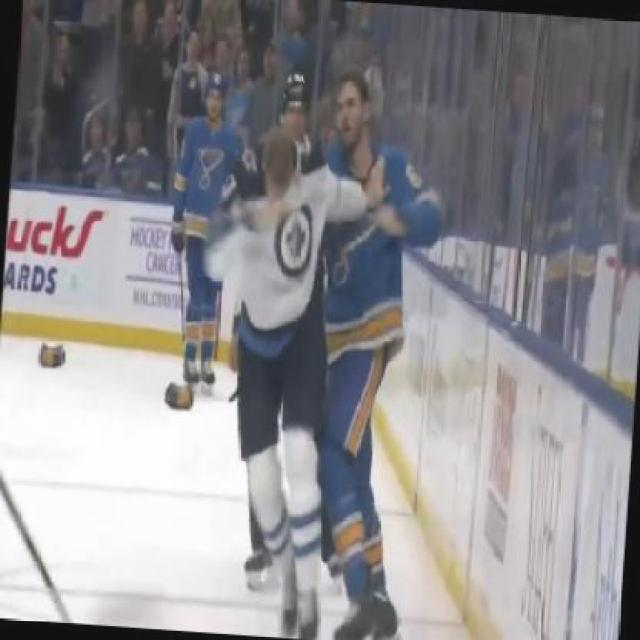fight: (178, 62, 451, 604)
non-fight: (156, 67, 250, 393)
